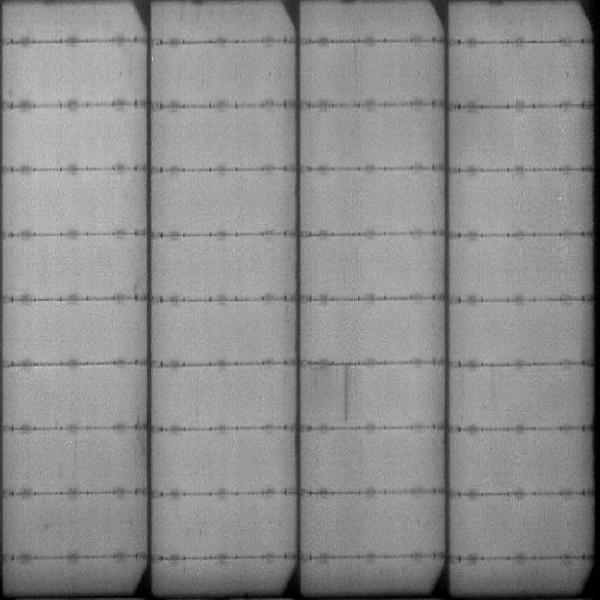scratch: (343, 364, 351, 419)
